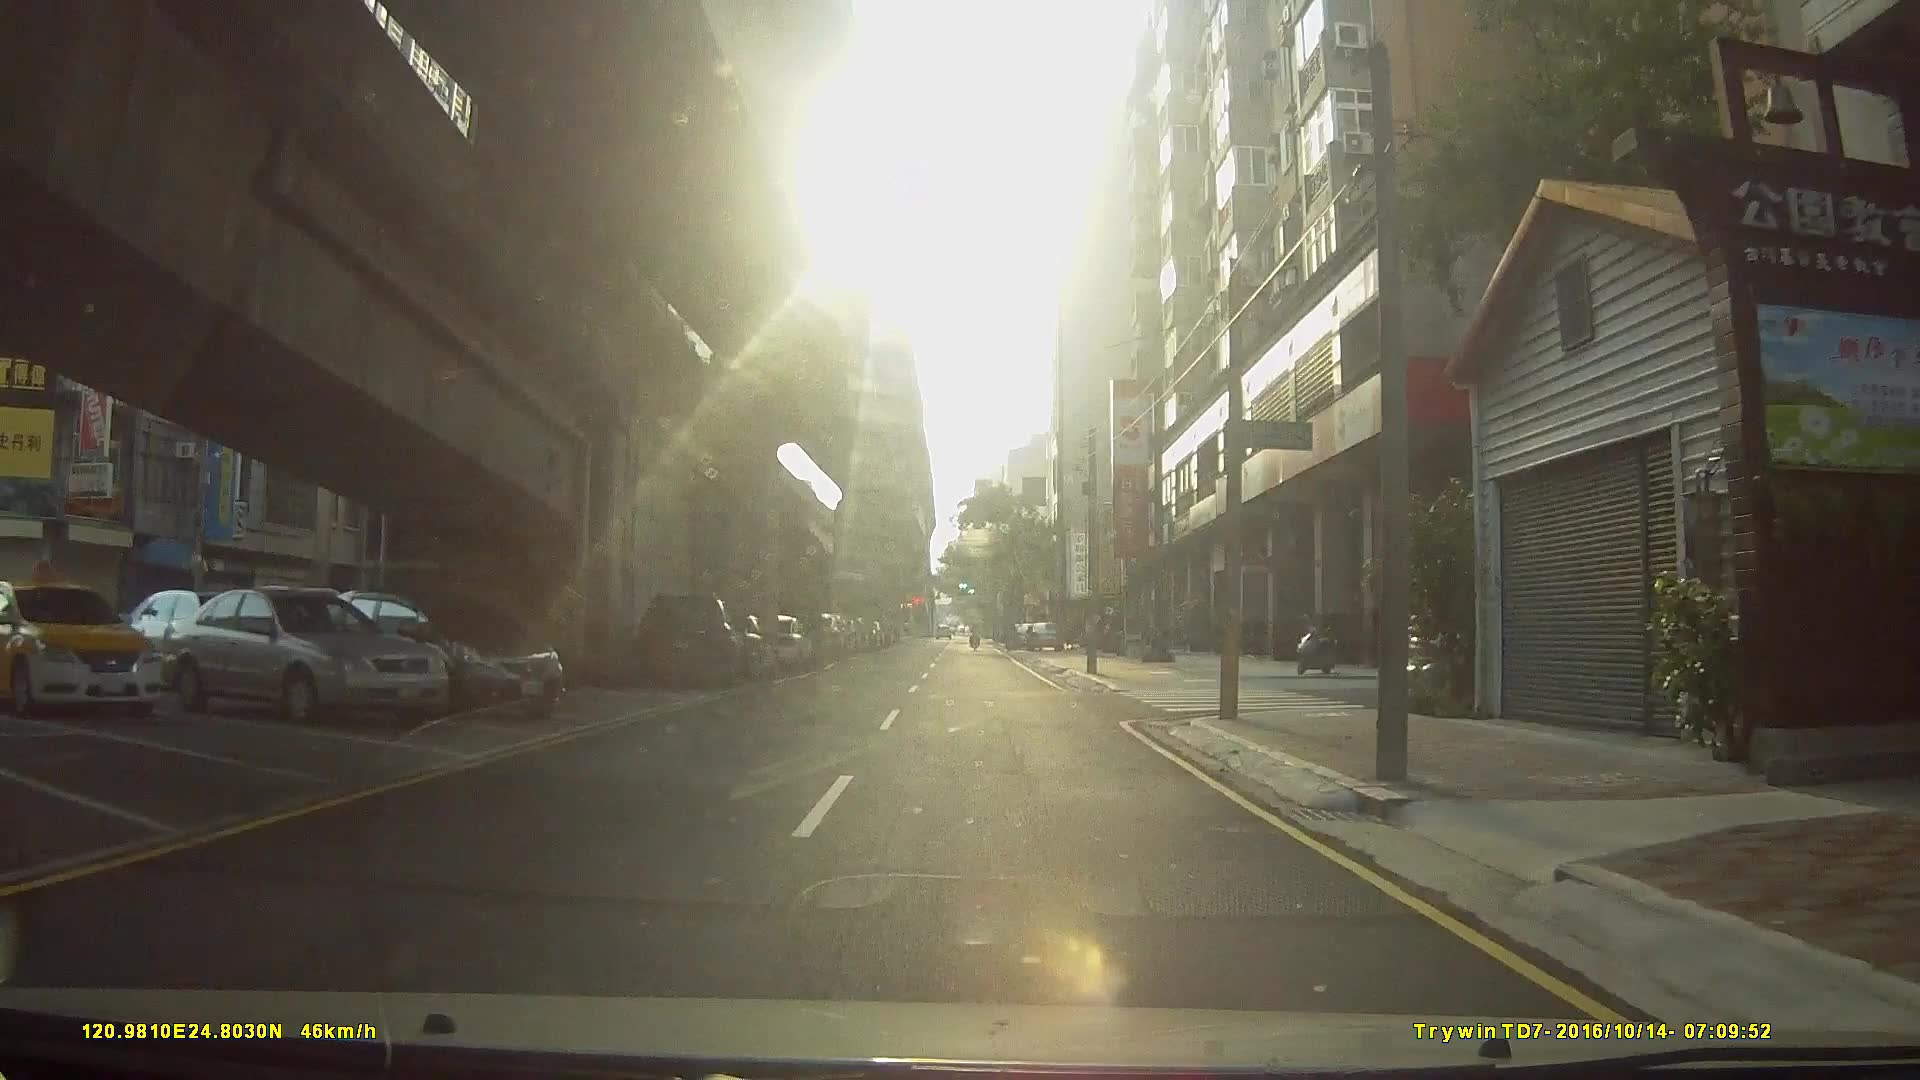vehicle: (160, 585, 448, 725), (318, 584, 570, 719), (0, 579, 158, 720), (629, 592, 746, 688)
